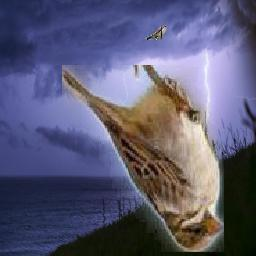Cuckoo: (146, 26, 169, 41)
Sparrow: (62, 66, 224, 253)
